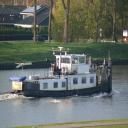tugboat: (7, 47, 117, 100)
